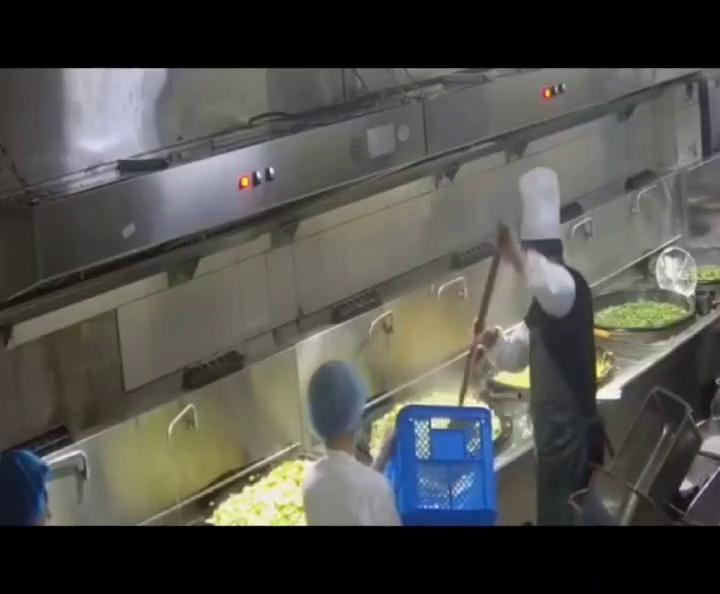gloves: (307, 360, 368, 439)
